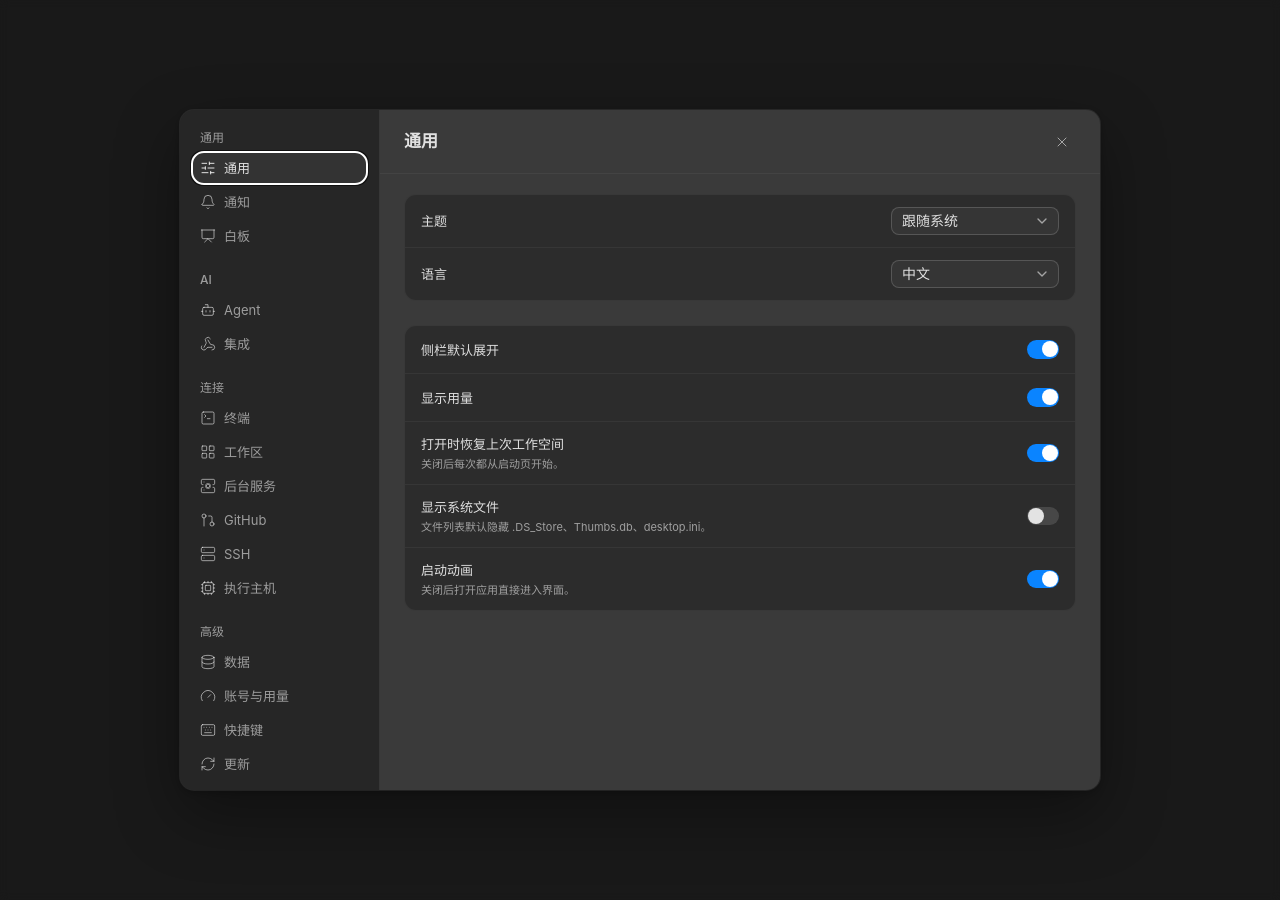
Test: SettingsDialog › SSH 主机在同一右栏里推入子页，← 返回列表
Click the button "SSH" at (280, 554), box [192,538,367,570]
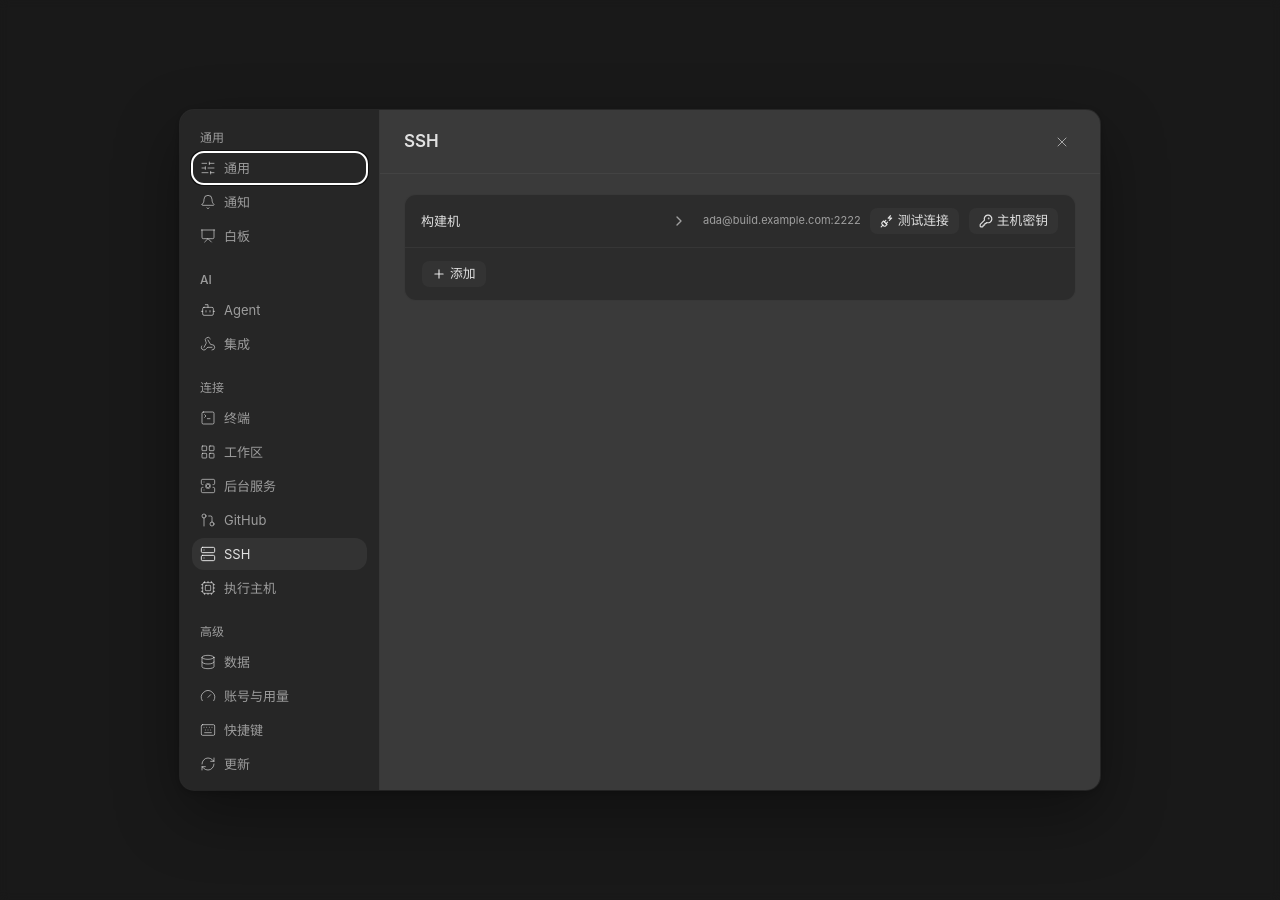
Click the button "构建机" at (441, 221), box [417,207,691,235]
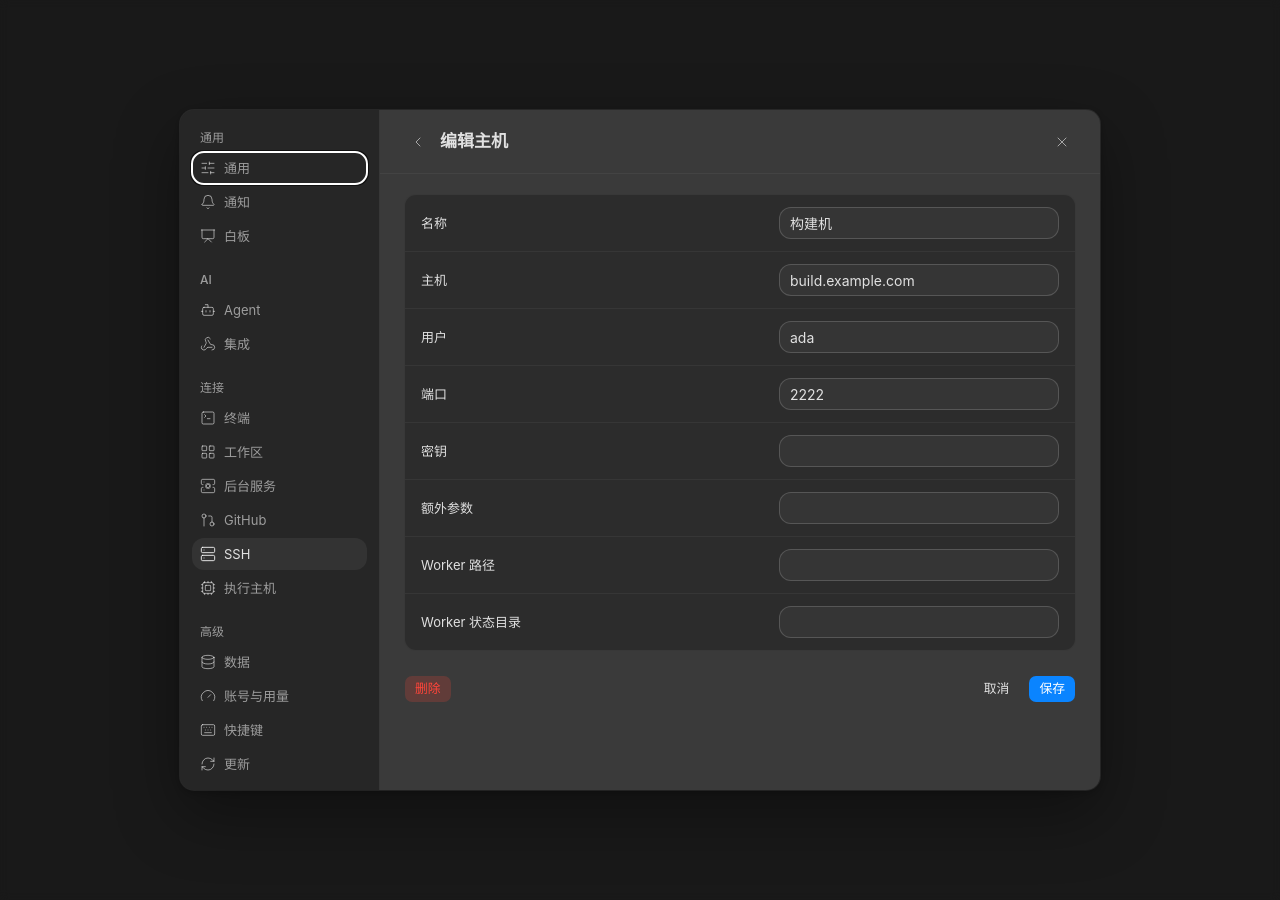
Expected: the number of dialogs is 1, [180,110,1100,790]
Expected: the heading with test id "settings-heading" reads "编辑主机", [440,131,508,151]
Expected: the field named "主机" holds "build.example.com", [779,264,1059,296]
Click the button named "返回" at (418, 142), box [404,128,432,156]
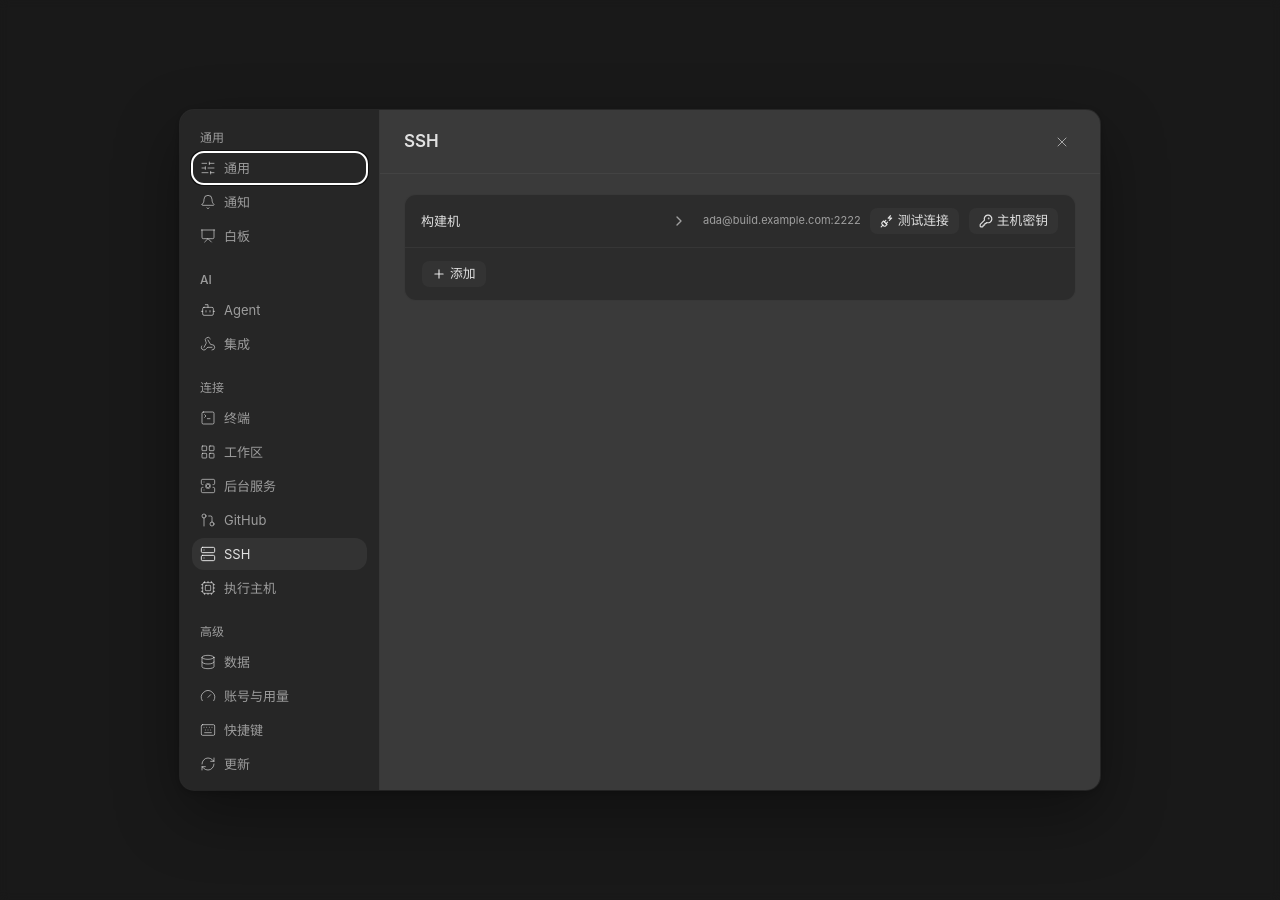
Expected: the heading with test id "settings-heading" reads "SSH", [404,131,439,151]
Expected: the button "构建机" is shown, [417,207,691,235]
